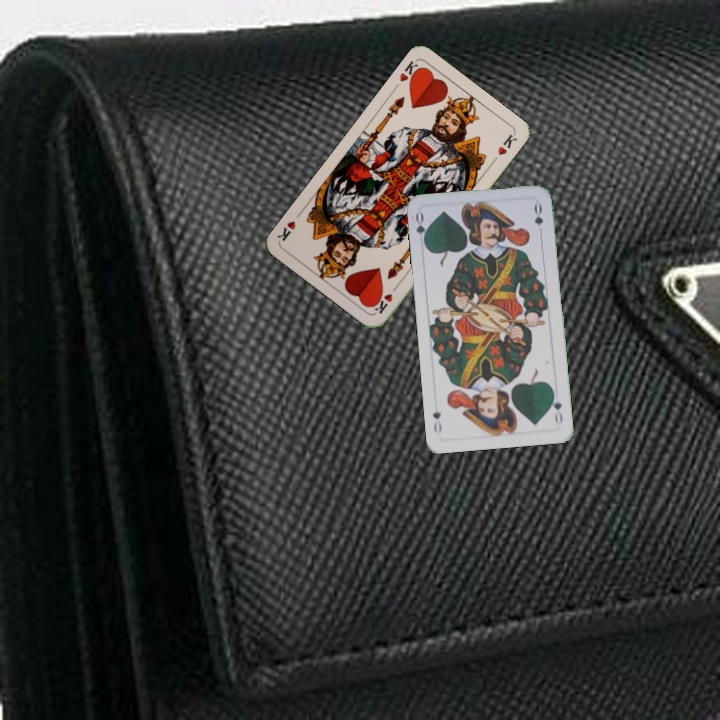GO: (411, 209, 431, 250), (547, 387, 565, 426)
HK: (370, 280, 401, 317), (395, 57, 425, 87)
